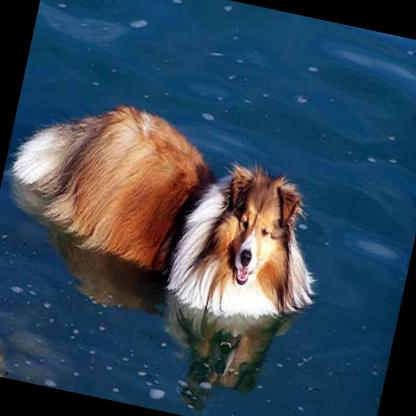Shetland_sheepdog: (0, 83, 346, 335)
